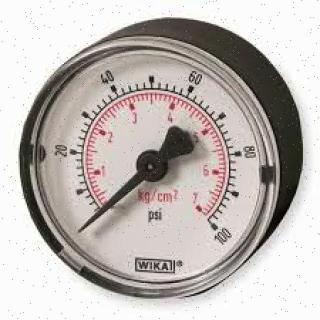gauge: (10, 25, 294, 311), (135, 148, 168, 182), (75, 205, 109, 237), (195, 205, 225, 235), (74, 223, 88, 237)
